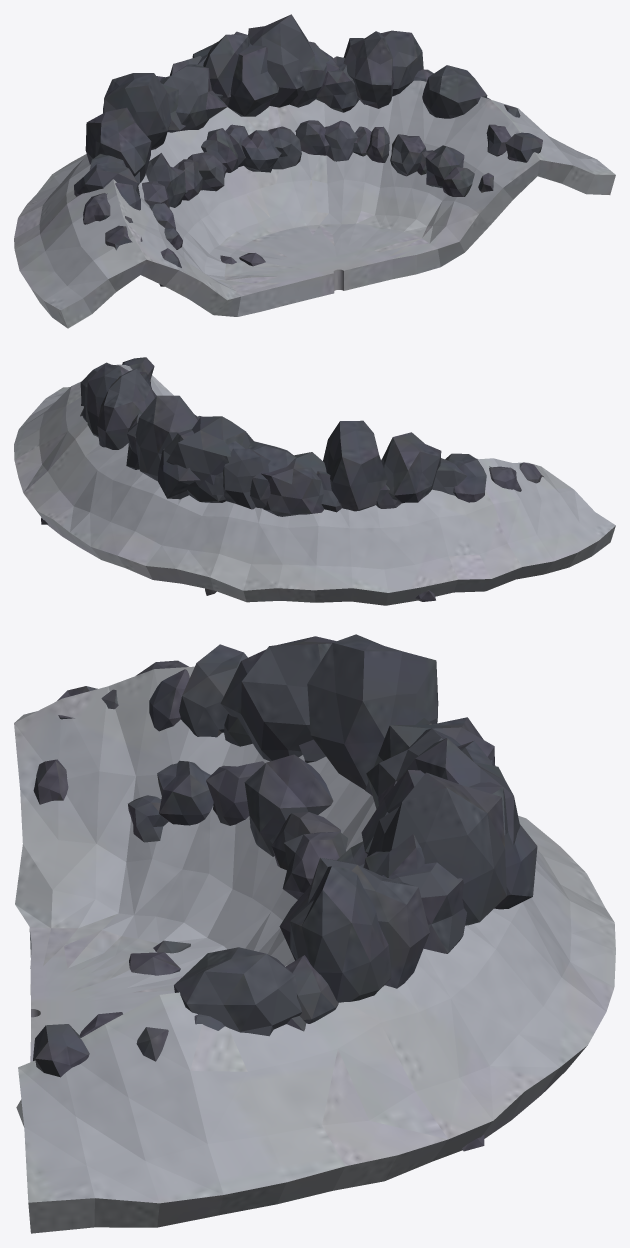
Rendered from crater-rim.glb.
3 renders of one model, top to bottom at view 1: azimuth 30°, elevation 25°; view 2: azimuth 150°, elevation 25°; view 3: azimuth 270°, elevation 25°, orthographic. The views are drawn at different scales.
Visible parts, largest first — view 1: RimSurface, RimCrag012, RimCrag020, RimCrag023, RimCrag008, RimCrag013, RimCrag017, RimCrag004, RimCrag014, RimCrag007, RimCrag009, RimCrag110 (+21 smaller); view 2: RimSurface, RimCrag020, RimCrag014, RimCrag023, RimCrag018, RimCrag012, RimCrag008, RimCrag016, RimCrag013, RimCrag017, RimCrag007, RimCrag025 (+7 smaller); view 3: RimSurface, RimCrag020, RimCrag012, RimCrag007, RimCrag023, RimCrag004, RimCrag008, RimCrag116, RimCrag013, RimCrag025, RimCrag010, RimCrag014 (+13 smaller).
Boxes of the visible parts, bbox=[...] form: RimSurface: bbox=[14, 80, 615, 328]; RimCrag012: bbox=[248, 14, 314, 107]; RimCrag020: bbox=[103, 73, 171, 149]; RimCrag023: bbox=[85, 107, 151, 182]; RimCrag008: bbox=[343, 31, 394, 108]; RimCrag013: bbox=[228, 31, 278, 116]; RimCrag017: bbox=[160, 64, 227, 131]; RimCrag004: bbox=[422, 65, 487, 118]; RimCrag014: bbox=[192, 34, 249, 106]; RimCrag007: bbox=[380, 30, 423, 96]; RimCrag009: bbox=[316, 56, 359, 112]; RimCrag110: bbox=[241, 130, 281, 172]; RimSurface: bbox=[14, 364, 615, 605]; RimCrag020: bbox=[323, 420, 387, 511]; RimCrag014: bbox=[166, 416, 253, 502]; RimCrag023: bbox=[381, 432, 441, 503]; RimCrag018: bbox=[261, 452, 326, 516]; RimCrag012: bbox=[135, 395, 198, 481]; RimCrag008: bbox=[97, 368, 156, 449]; RimCrag016: bbox=[223, 448, 270, 509]; RimCrag013: bbox=[158, 416, 201, 499]; RimCrag017: bbox=[248, 441, 296, 508]; RimCrag007: bbox=[85, 364, 128, 437]; RimCrag025: bbox=[445, 453, 486, 502]; RimSurface: bbox=[14, 666, 615, 1233]; RimCrag020: bbox=[307, 634, 438, 789]; RimCrag012: bbox=[363, 772, 506, 925]; RimCrag007: bbox=[290, 866, 391, 1002]; RimCrag023: bbox=[220, 636, 336, 761]; RimCrag004: bbox=[174, 947, 301, 1036]; RimCrag008: bbox=[279, 857, 429, 988]; RimCrag116: bbox=[244, 754, 333, 856]; RimCrag013: bbox=[361, 770, 537, 909]; RimCrag025: bbox=[179, 644, 247, 737]; RimCrag010: bbox=[382, 862, 466, 953]; RimCrag014: bbox=[403, 738, 520, 844].
Bounding box in the file's own units: 17.15 × 5.29 × 8.91.
2 materials, 2 textured.
